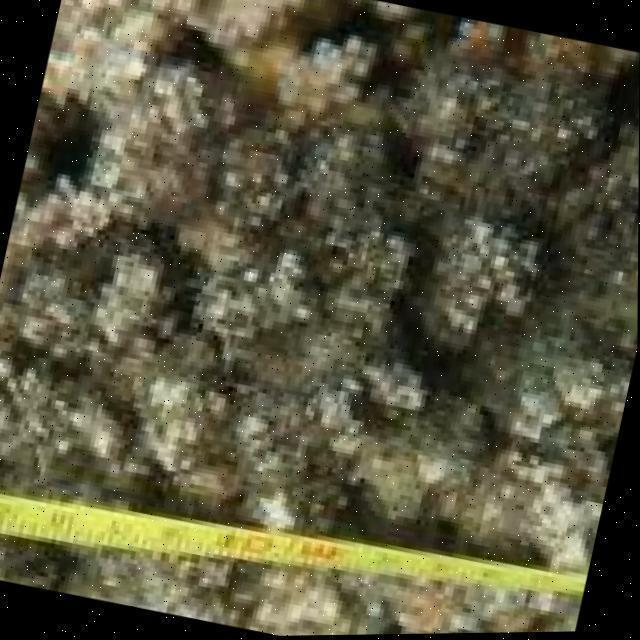Dead Coral: (189, 0, 640, 418)
